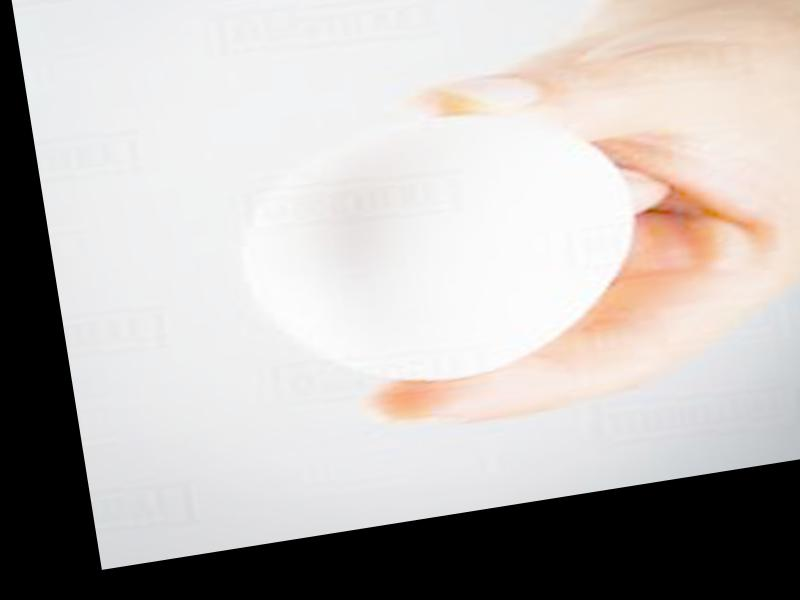Eggs: (227, 95, 651, 408)
